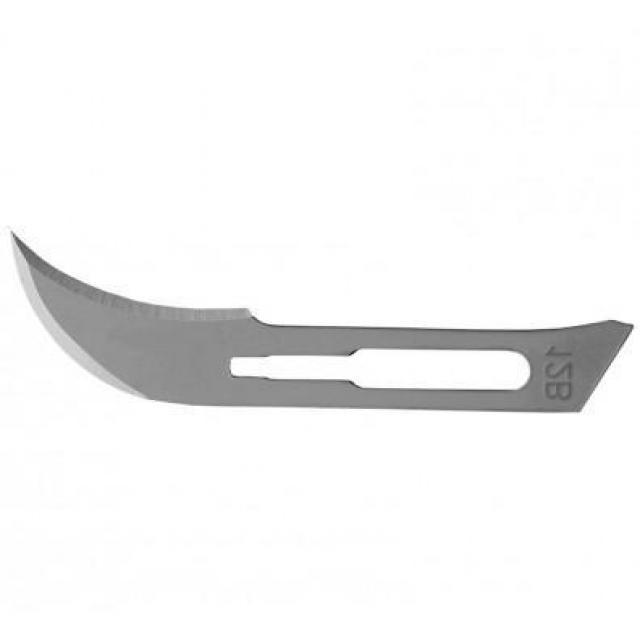Scalpel: (9, 226, 636, 416)
